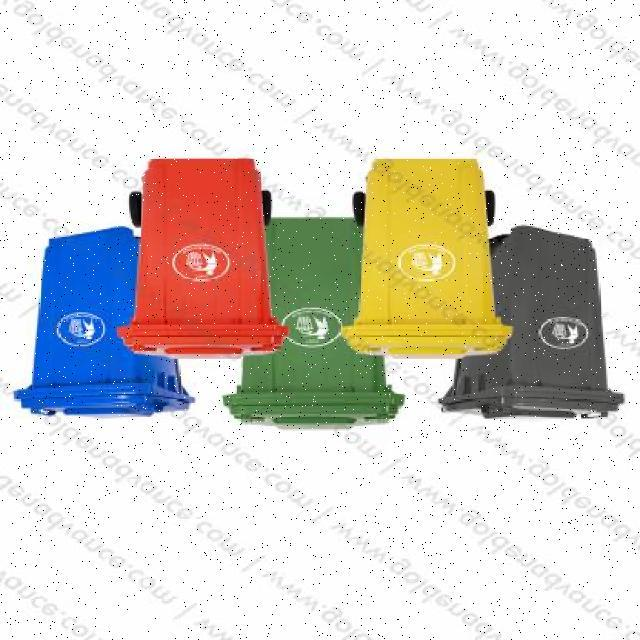garbage container: (432, 222, 637, 425), (221, 216, 410, 436), (337, 153, 519, 367), (117, 153, 296, 362), (9, 226, 197, 423)
